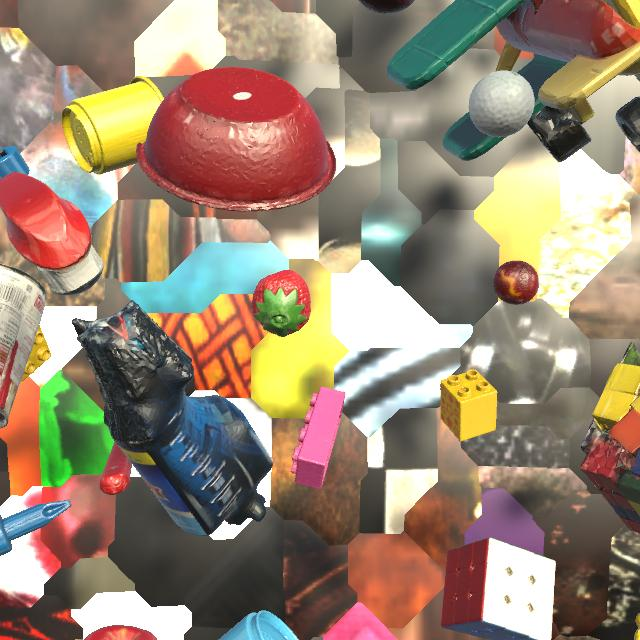ycb_005_tomato_soup_can: (0, 264, 46, 429)
ycb_012_strawberry: (252, 270, 311, 337)
ycb_013_apple: (84, 625, 158, 640)
ycb_018_plum: (359, 0, 415, 14)
